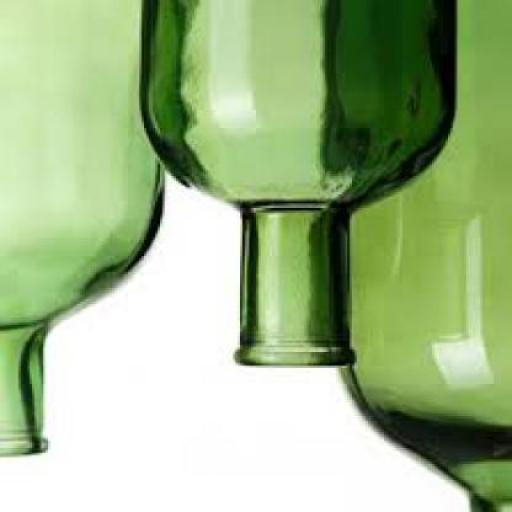glass: (142, 2, 457, 368), (342, 1, 511, 511), (2, 2, 167, 457)
